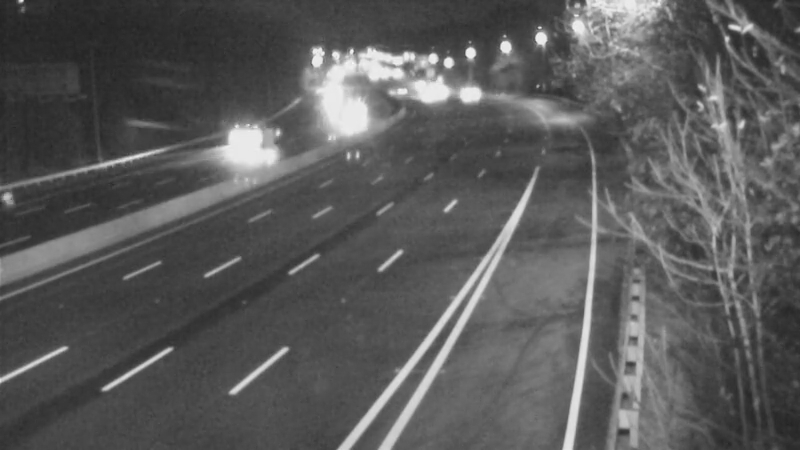vehicle: (1, 156, 64, 236), (372, 63, 422, 113), (402, 69, 452, 119), (443, 64, 493, 114), (219, 118, 269, 168), (330, 86, 380, 136)
